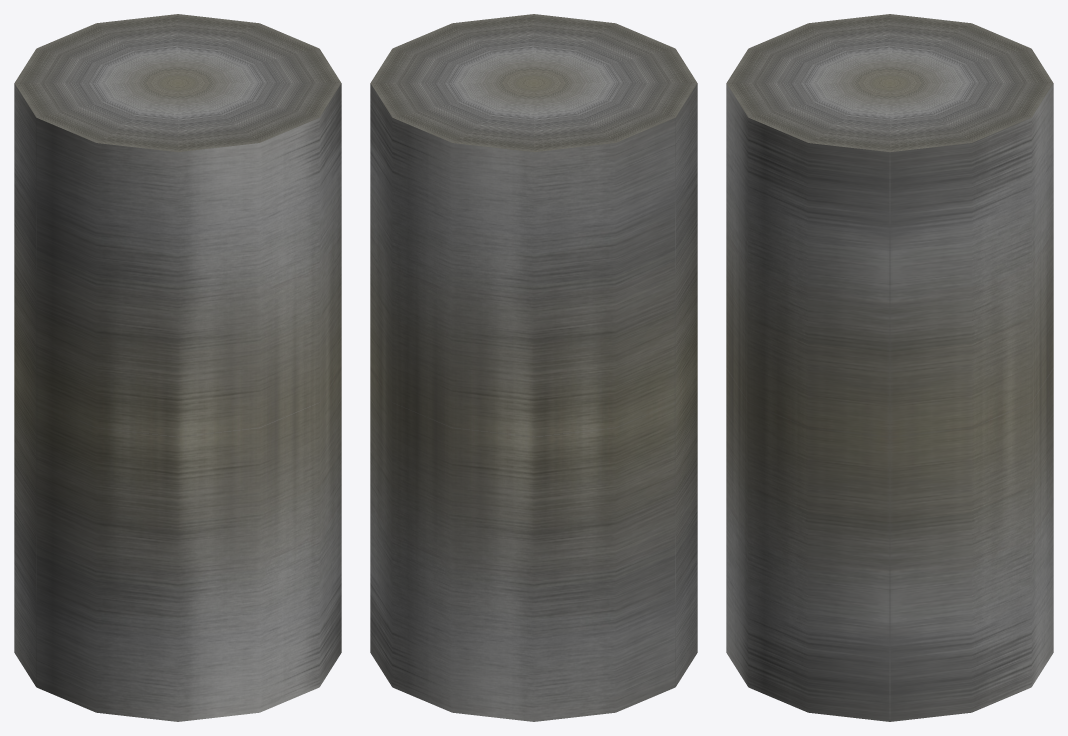
File: metalpipe.fbx
3 renders of one model, left to right at view 1: azimuth 30°, elevation 25°; view 2: azimuth 150°, elevation 25°; view 3: azimuth 270°, elevation 25°, orthographic.
Parts seen in each view (by area): view 1: metalpipe; view 2: metalpipe; view 3: metalpipe.
Part boxes in pixels (x1,y1,x2,y2): metalpipe: [14, 14, 341, 721]; metalpipe: [370, 14, 697, 721]; metalpipe: [726, 14, 1053, 721].
Size of the model in its own units: 102 by 196 by 102.
